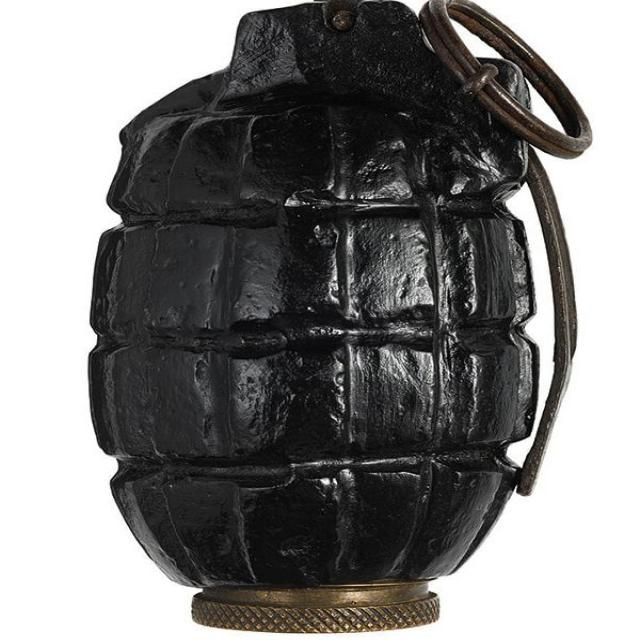grenade: (86, 1, 594, 637)
